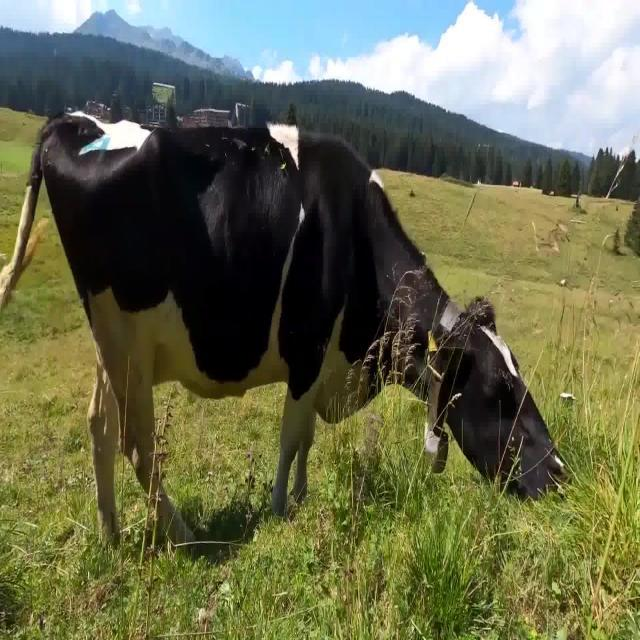COW: (4, 114, 565, 542)
